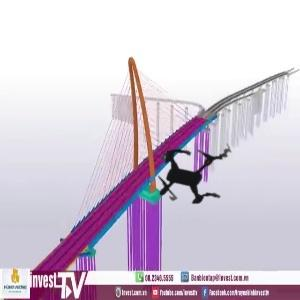drone: (116, 108, 261, 253)
